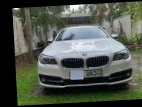car: (34, 18, 135, 96)
